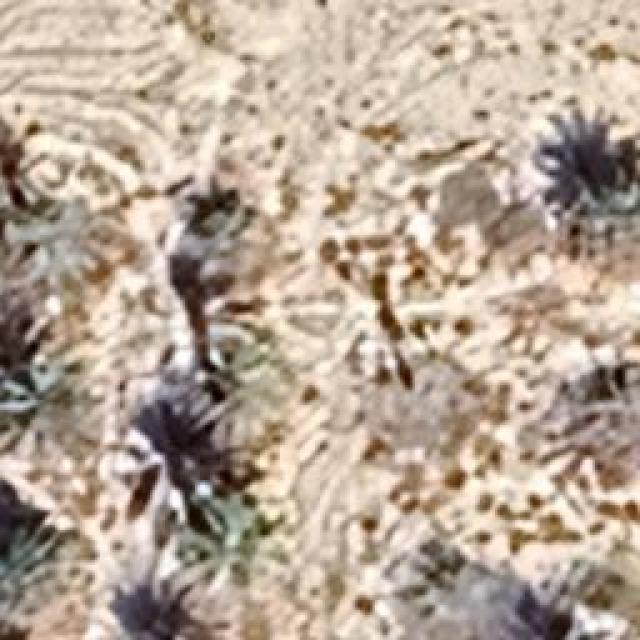PalmTree: (85, 125, 465, 594), (118, 91, 598, 191), (165, 492, 290, 618), (117, 411, 234, 543), (5, 164, 105, 284), (182, 190, 296, 288), (0, 357, 102, 464), (181, 341, 284, 444), (545, 372, 640, 446), (0, 525, 62, 610)
